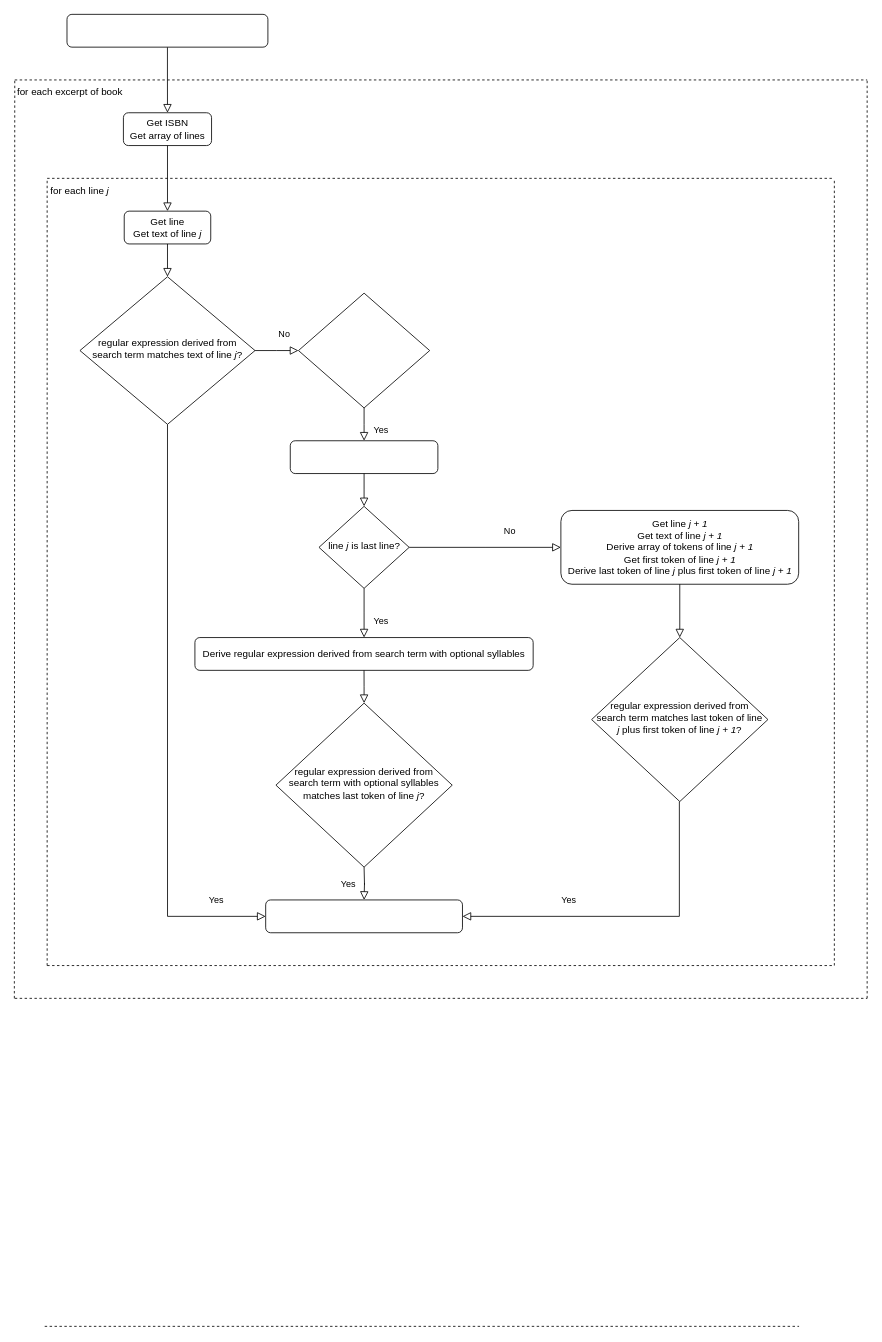
Image size: 882x1342. Some labels were removed from this diagram. Here are the shapes that lost their labels. From the top down, the centre of each, then its label:
At point (167, 30): "Create array of search results Derive regular expression from search term".
At point (364, 350): "text of line j ends with '-'?".
At point (363, 457): "Derive array of tokens of line j Get last token of line j".
At point (363, 916): "add search result to array of search results".
